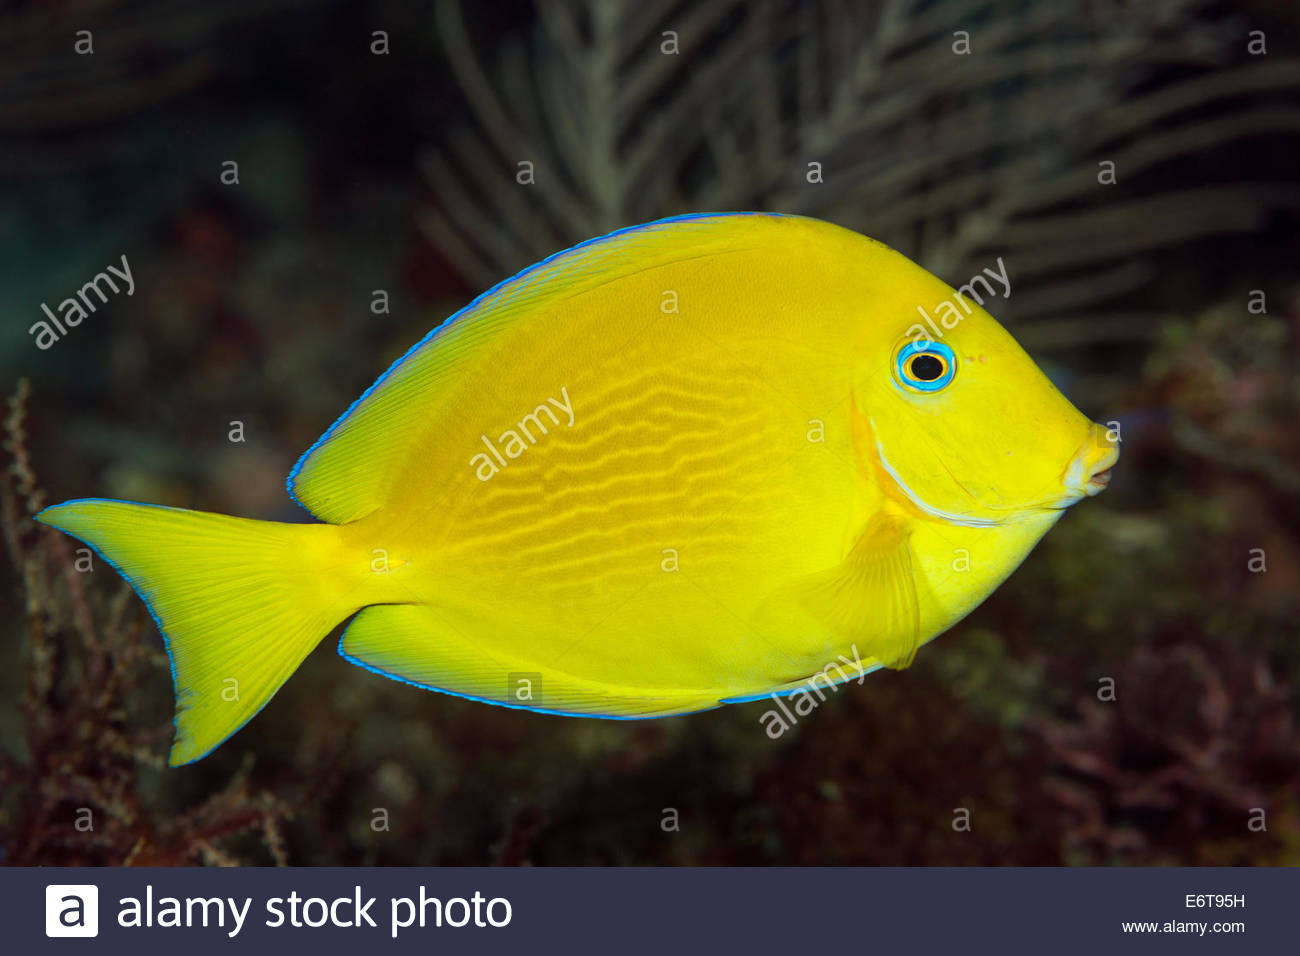Acanthurus_coeruleus: (31, 199, 1133, 769)
